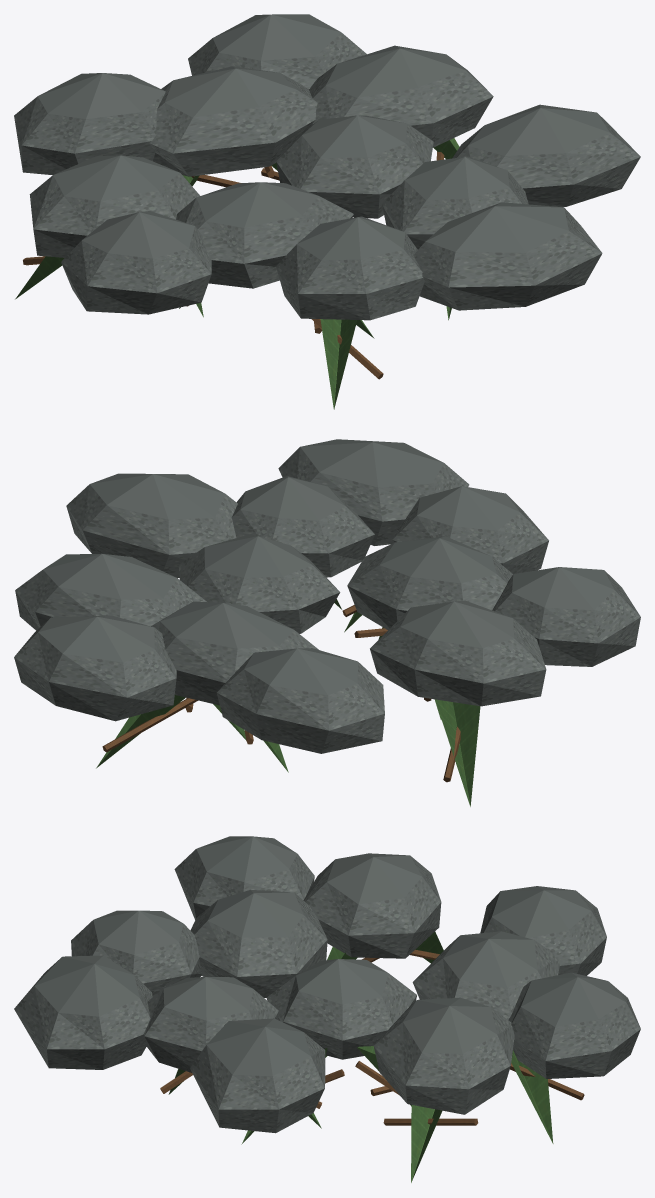
Rendered from en-015_cave_floor_debris_set__stones.obj.
The picture shows the model from 3 angles, top to bottom: view 1: azimuth 30°, elevation 25°; view 2: azimuth 150°, elevation 25°; view 3: azimuth 270°, elevation 25°; orthographic projection. The views are drawn at different scales.
Parts seen in each view (by area): view 1: en-015_cave_floor_debris_set__stones; view 2: en-015_cave_floor_debris_set__stones; view 3: en-015_cave_floor_debris_set__stones.
Part boxes in pixels (x1,y1,x2,y2): en-015_cave_floor_debris_set__stones: [14, 14, 640, 409]; en-015_cave_floor_debris_set__stones: [14, 439, 640, 806]; en-015_cave_floor_debris_set__stones: [14, 836, 640, 1182].
Size of the model in its own units: 1.13 by 0.3255 by 1.15.
Materials: 3 (3 with a texture image).
